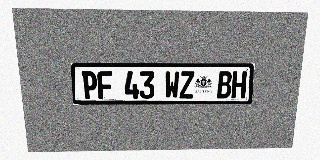3: (139, 71, 154, 99)
4: (124, 71, 139, 99)
B: (217, 71, 232, 98)
F: (97, 71, 113, 99)
H: (231, 71, 247, 98)
P: (81, 71, 98, 99)
W: (165, 71, 179, 99)
Z: (179, 71, 194, 99)
